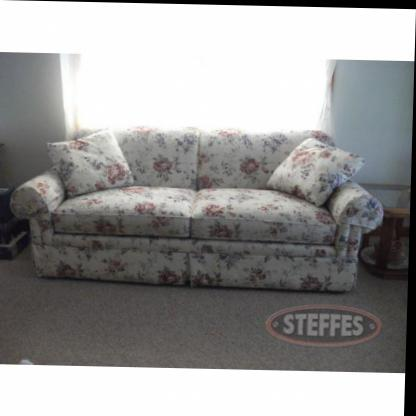Sofa: (7, 121, 387, 292)
